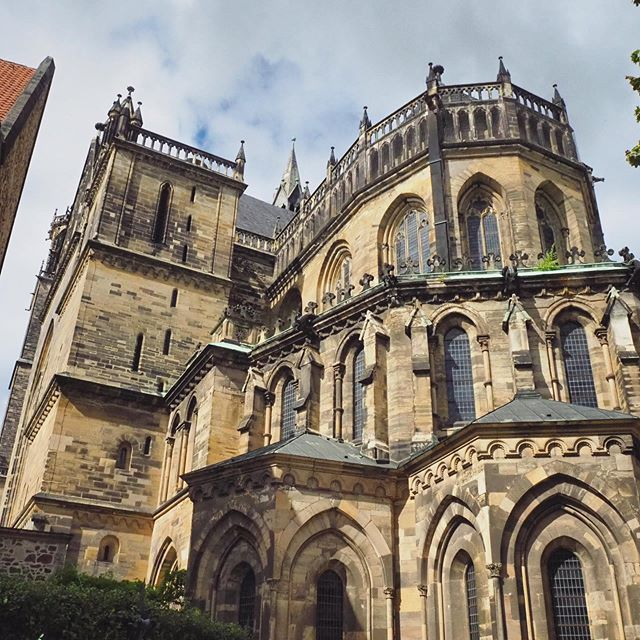building: (27, 101, 638, 640)
sky: (71, 1, 640, 135)
